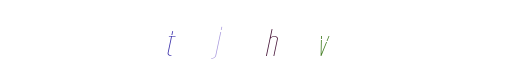H: (220, 0, 300, 80)
J: (206, 0, 286, 80)
T: (204, 0, 284, 80)
V: (249, 0, 329, 80)
